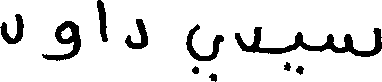ا: (96, 0, 107, 42)
د: (232, 24, 258, 53), (0, 12, 22, 44), (127, 17, 148, 49)
س: (327, 25, 380, 57)
و: (39, 18, 78, 60)
ي: (184, 22, 222, 80), (279, 29, 302, 72)
